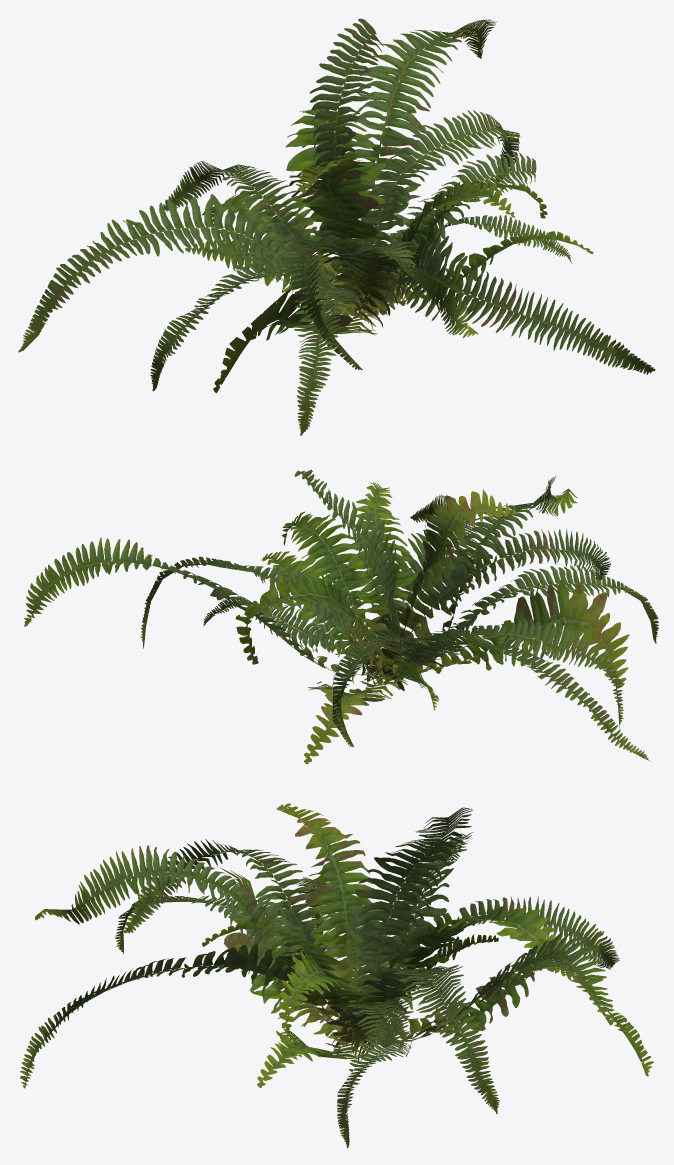
File: fern_a.glb
3 views of the same model, one above another, from view 1: azimuth 30°, elevation 25°; view 2: azimuth 150°, elevation 25°; view 3: azimuth 270°, elevation 25° (orthographic). The views are drawn at different scales.
Parts seen in each view (by area): view 1: fern_a; view 2: fern_a; view 3: fern_a.
Boxes of the visible parts, left/top/right/bottom form: fern_a: left=18, top=18, right=655, bottom=435; fern_a: left=24, top=469, right=658, bottom=764; fern_a: left=20, top=803, right=653, bottom=1147.
Size of the model in its own units: 5.09 by 2.2 by 4.6.
Materials: 1 (1 with a texture image).
